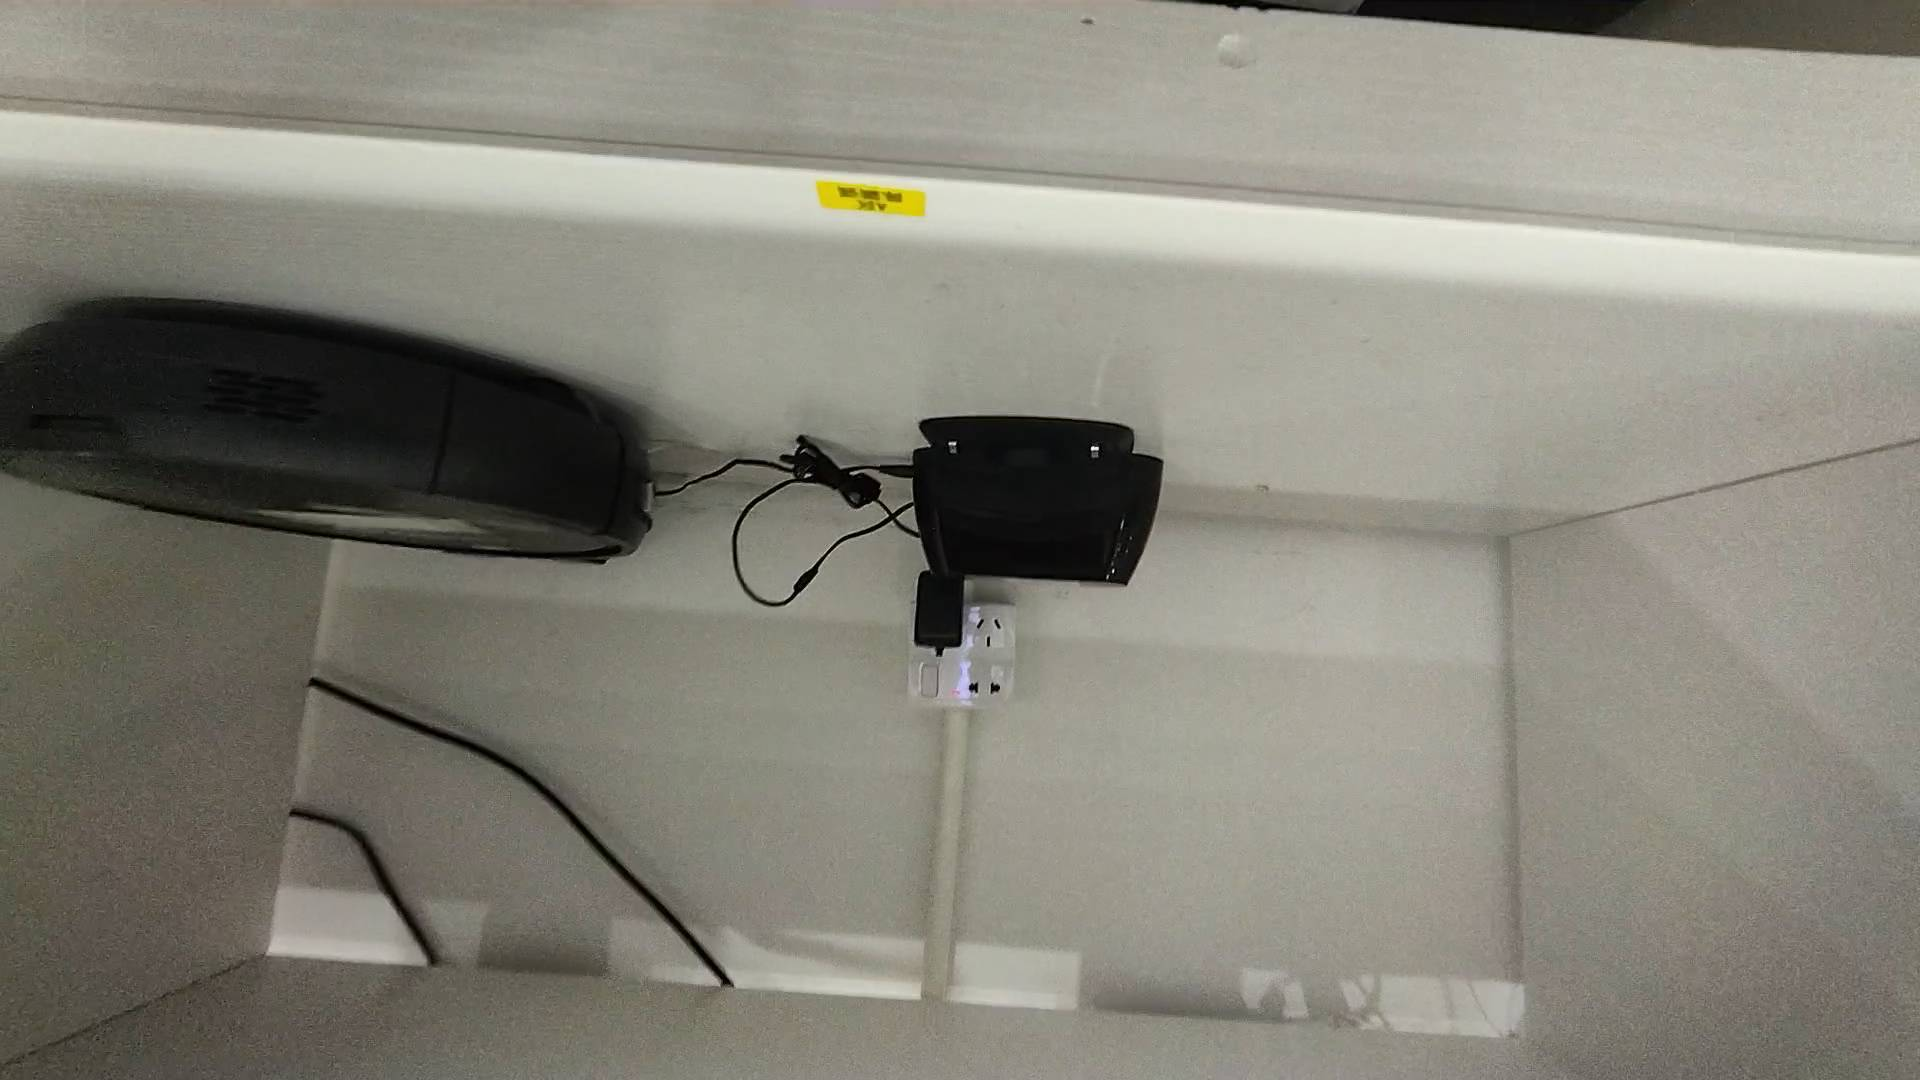recharge seat: (913, 417, 1168, 587)
